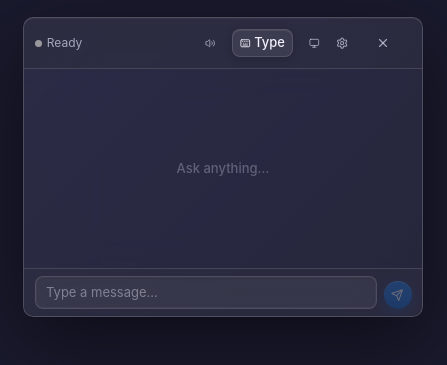
Test case: Settings Page Flow › opens settings page when gear icon clicked
This screenshot has width=447, height=365.
Click the button named "Open settings" at (354, 43), box [336,25,372,61]
(page scrolled)
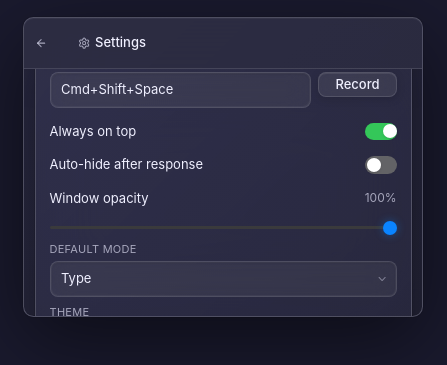
Result: the element with test id "settings-page" is shown
Result: the element with test id "section-overlay" is shown at [34,69,412,316]
